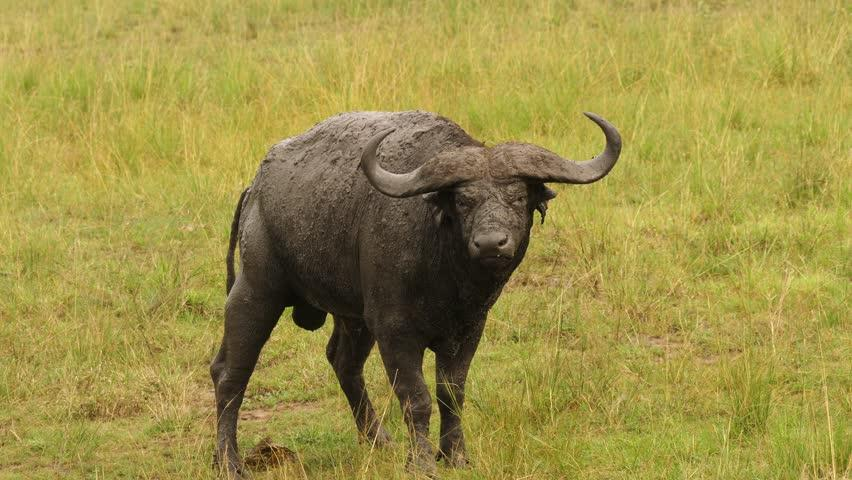Buffalo: (216, 62, 607, 480)
